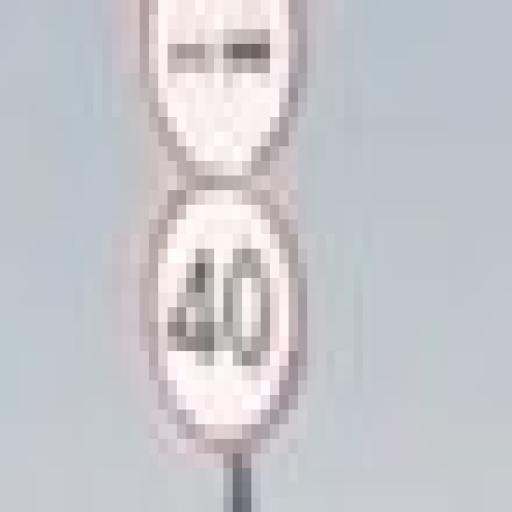traffic_sign: (141, 177, 308, 455)
